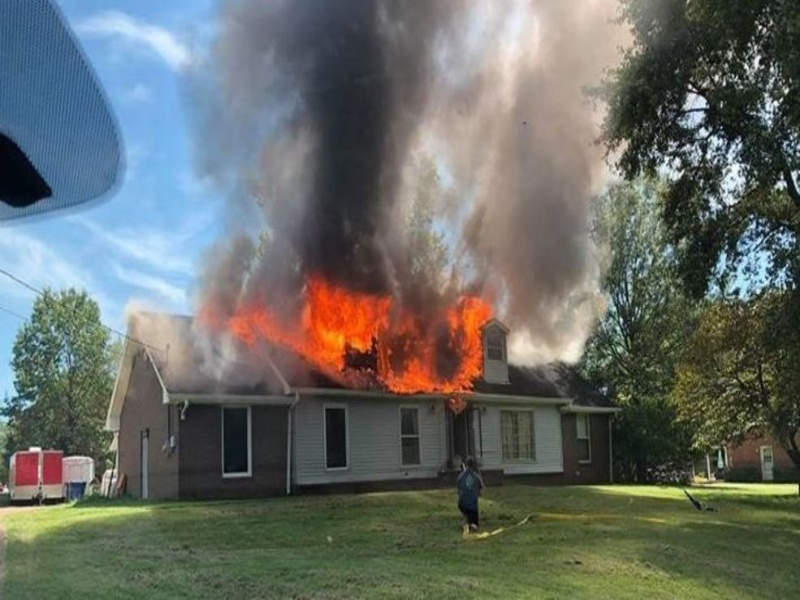fire: (234, 270, 499, 403)
